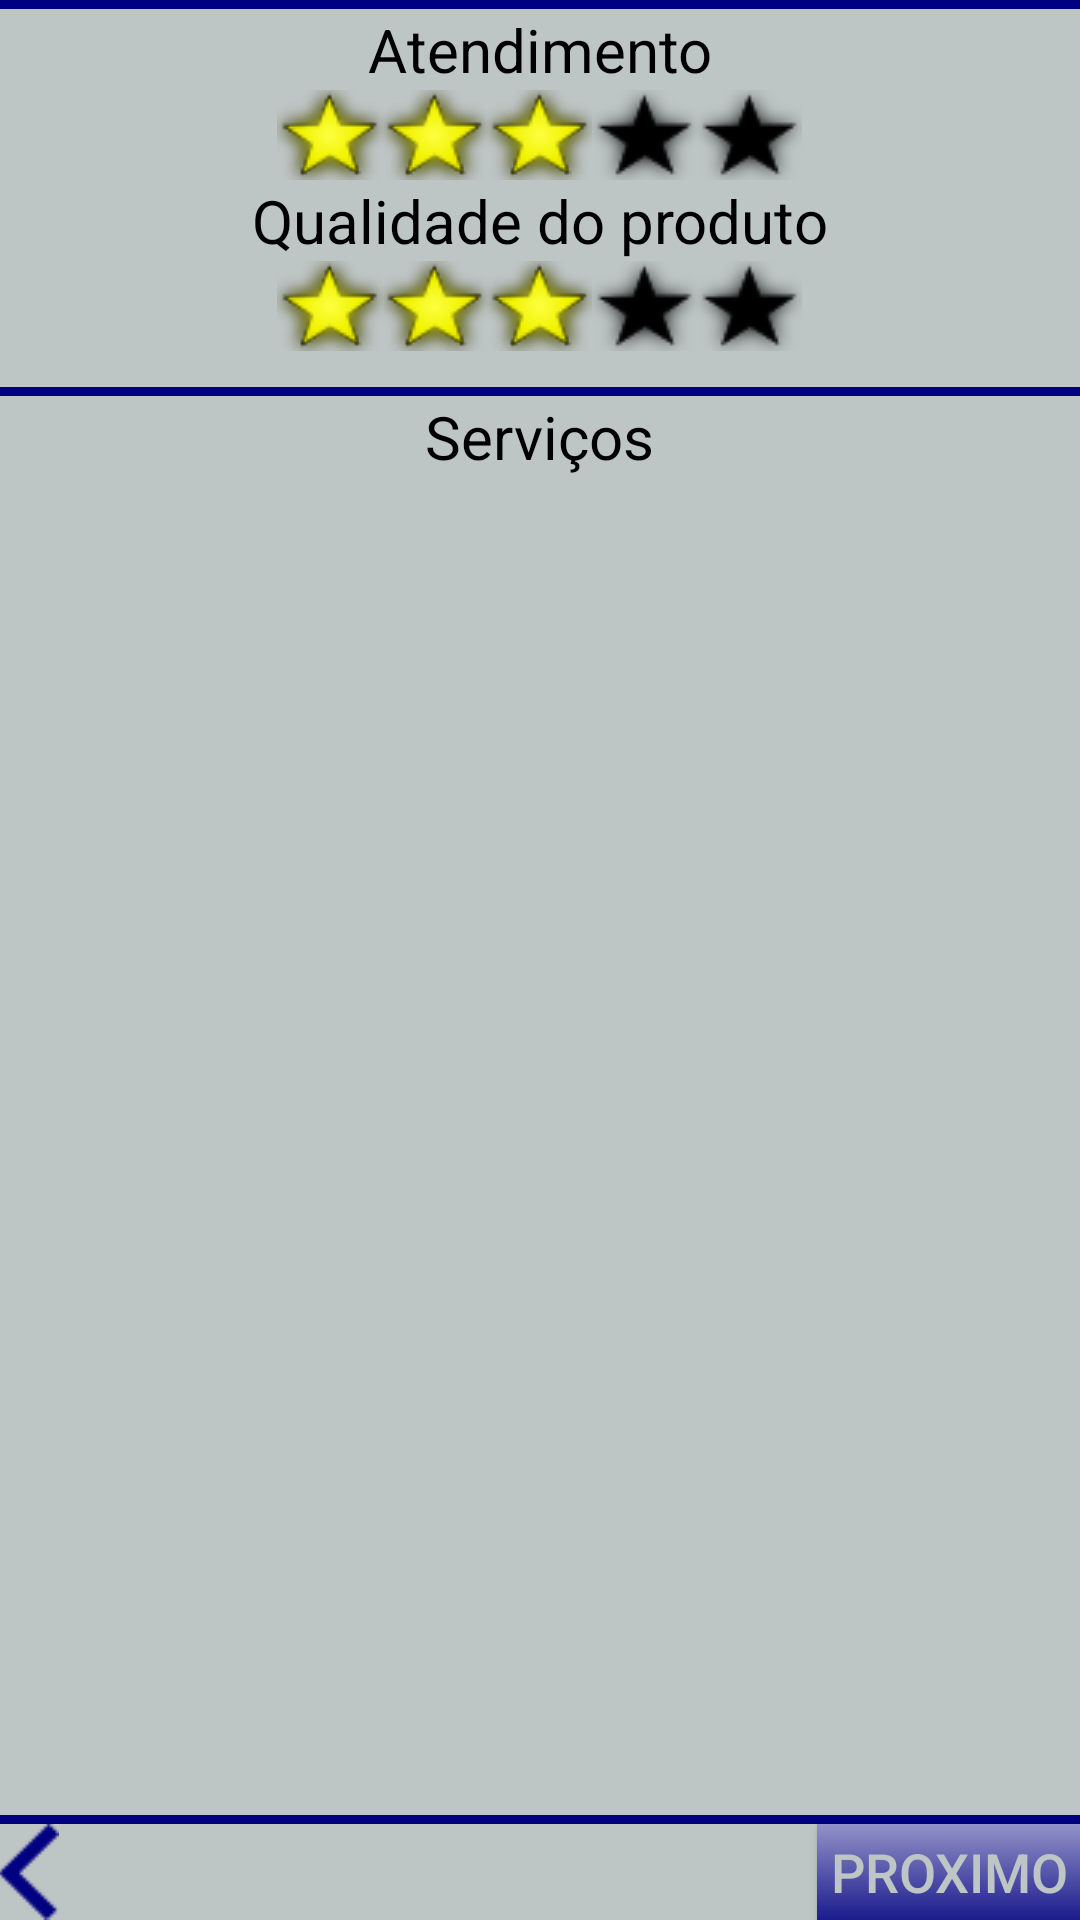

Icons on this 1080px×1920px Android screen, each with its box as bbox=(x1, y1, x2, y2):
seta voltar: bbox=(0, 1824, 59, 1920)
